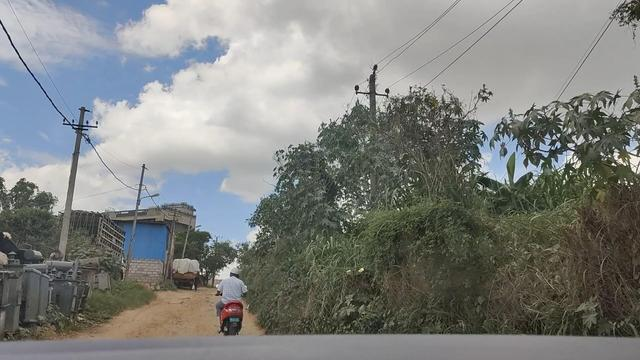HMV: (171, 256, 205, 295)
UnsurfacedRoad: (120, 298, 216, 340)
